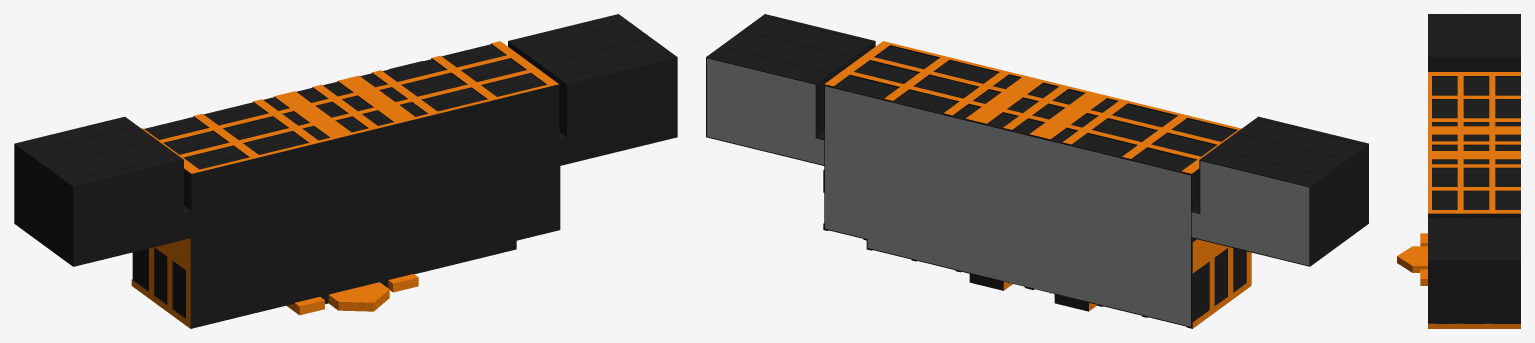
File: Ing Sistemas.fbx
3 views of the same model, side by side, from view 1: azimuth 30°, elevation 25°; view 2: azimuth 150°, elevation 25°; view 3: azimuth 270°, elevation 25° (orthographic). The views are drawn at different scales.
Parts seen in each view (by area): view 1: Body1, Body6; view 2: Body9, Body1, Body8, Body10; view 3: Body1, Body6, Body7, Body5.
Boxes of the visible parts, x1,y1,x2,y2 form: Body1: (14, 14, 677, 328); Body6: (328, 282, 389, 311); Body9: (825, 86, 1190, 326); Body1: (706, 14, 1368, 328); Body8: (1191, 161, 1309, 265); Body10: (707, 58, 824, 164); Body1: (1428, 14, 1520, 328); Body6: (1397, 246, 1427, 272); Body7: (1420, 269, 1427, 285); Body5: (1420, 233, 1427, 246).
Bounding box in the file's own units: 71 × 20.1 × 16.
